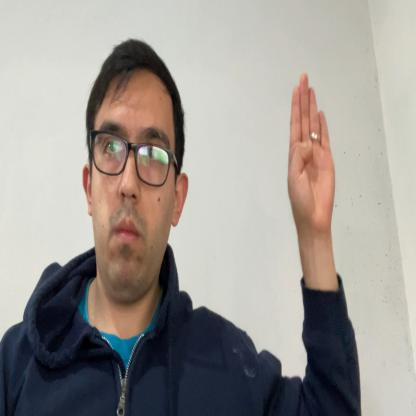B: (288, 71, 336, 239)
